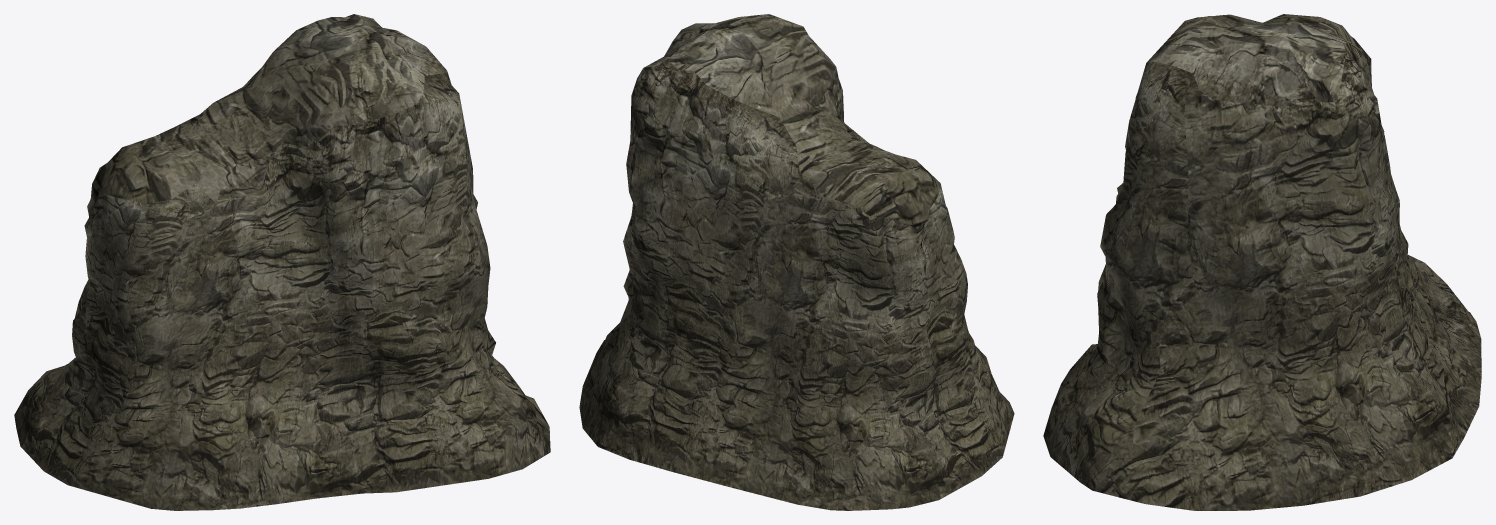
File: MEP_Cliff_01.fbx
3 views of the same model, side by side, from view 1: azimuth 30°, elevation 25°; view 2: azimuth 150°, elevation 25°; view 3: azimuth 270°, elevation 25° (orthographic). The views are drawn at different scales.
Visible parts, largest first — view 1: MEP_Desert_Cliff_01_N; view 2: MEP_Desert_Cliff_01_N; view 3: MEP_Desert_Cliff_01_N.
Boxes of the visible parts, left/top/right/bottom form: MEP_Desert_Cliff_01_N: left=14, top=14, right=550, bottom=510; MEP_Desert_Cliff_01_N: left=579, top=14, right=1014, bottom=510; MEP_Desert_Cliff_01_N: left=1043, top=14, right=1481, bottom=510.
Size of what is drawn, in the model's own units: 2110 by 1825 by 1768.
Materials: 1 (1 with a texture image).
